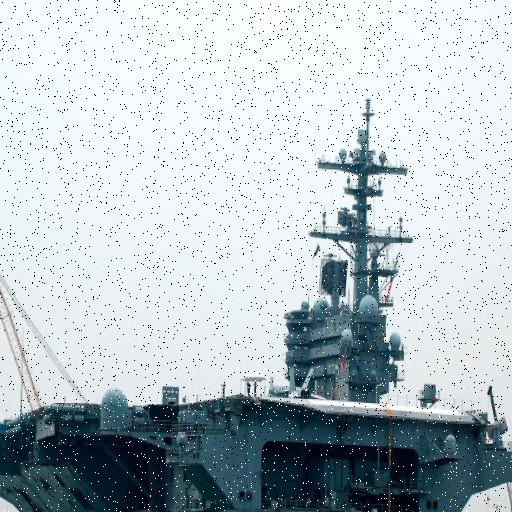Portanaves: (1, 82, 512, 512)
